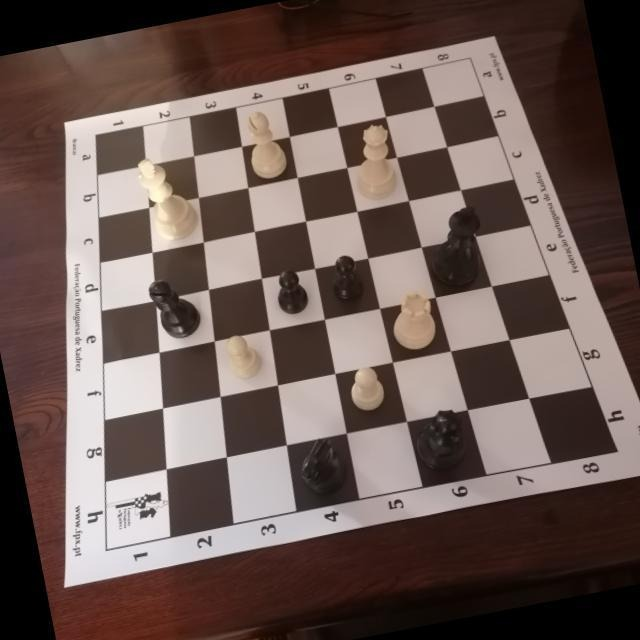black-bishop: (146, 272, 205, 343)
black-king: (423, 203, 493, 293)
black-knight: (294, 433, 354, 501)
black-pawn: (271, 266, 312, 318), (327, 251, 366, 303)
black-queen: (410, 404, 472, 475)
white-bishop: (241, 106, 291, 182)
white-king: (133, 150, 203, 246)
white-pawn: (222, 330, 266, 382), (345, 362, 389, 414)
white-queen: (345, 121, 402, 204)
white-rook: (386, 288, 441, 354)
